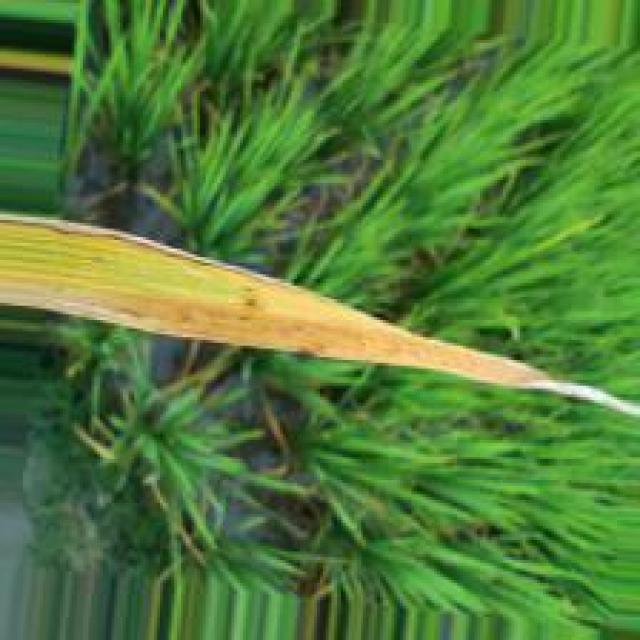Bacterial_Leaf_Blight: (1, 211, 549, 388)
